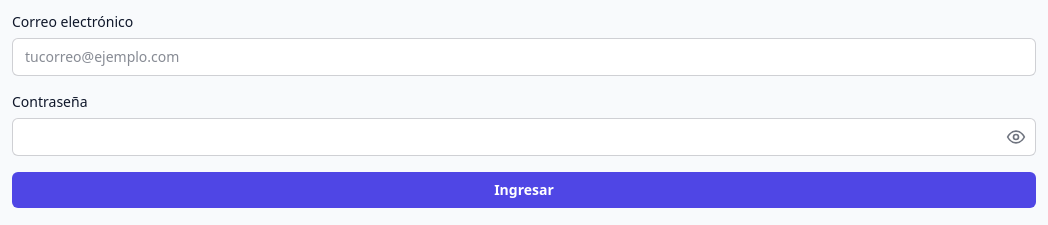
Scenario: FormularioLogin › mientras espera al servidor deshabilita el botón y muestra el estado de carga
Type "usuario@ejemplo.com" into the field labelled "Correo electrónico". click: (524, 57)
box: [12,38,1036,76]
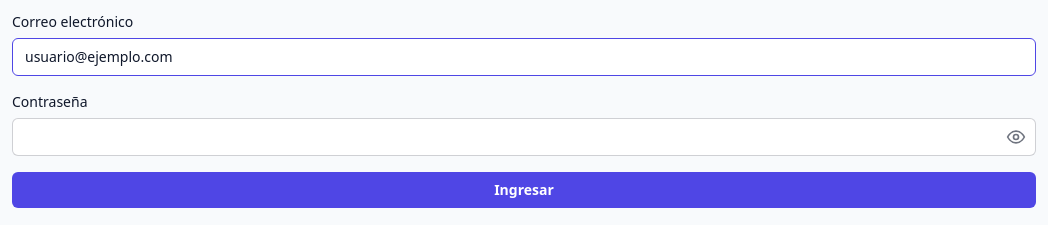
Type "clave-de-ejemplo" into the password field labelled "Contraseña". click: (524, 137)
box: [12,118,1036,156]
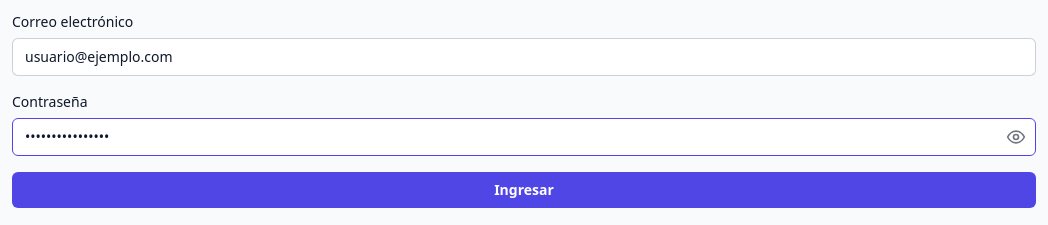
Click the button "Ingresar". click: (524, 190)
box: [12,172,1036,208]
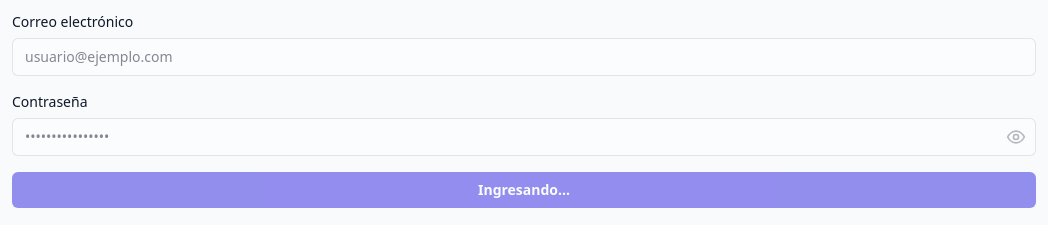
Result: the button "Ingresando…" is disabled at [12,172,1036,208]
